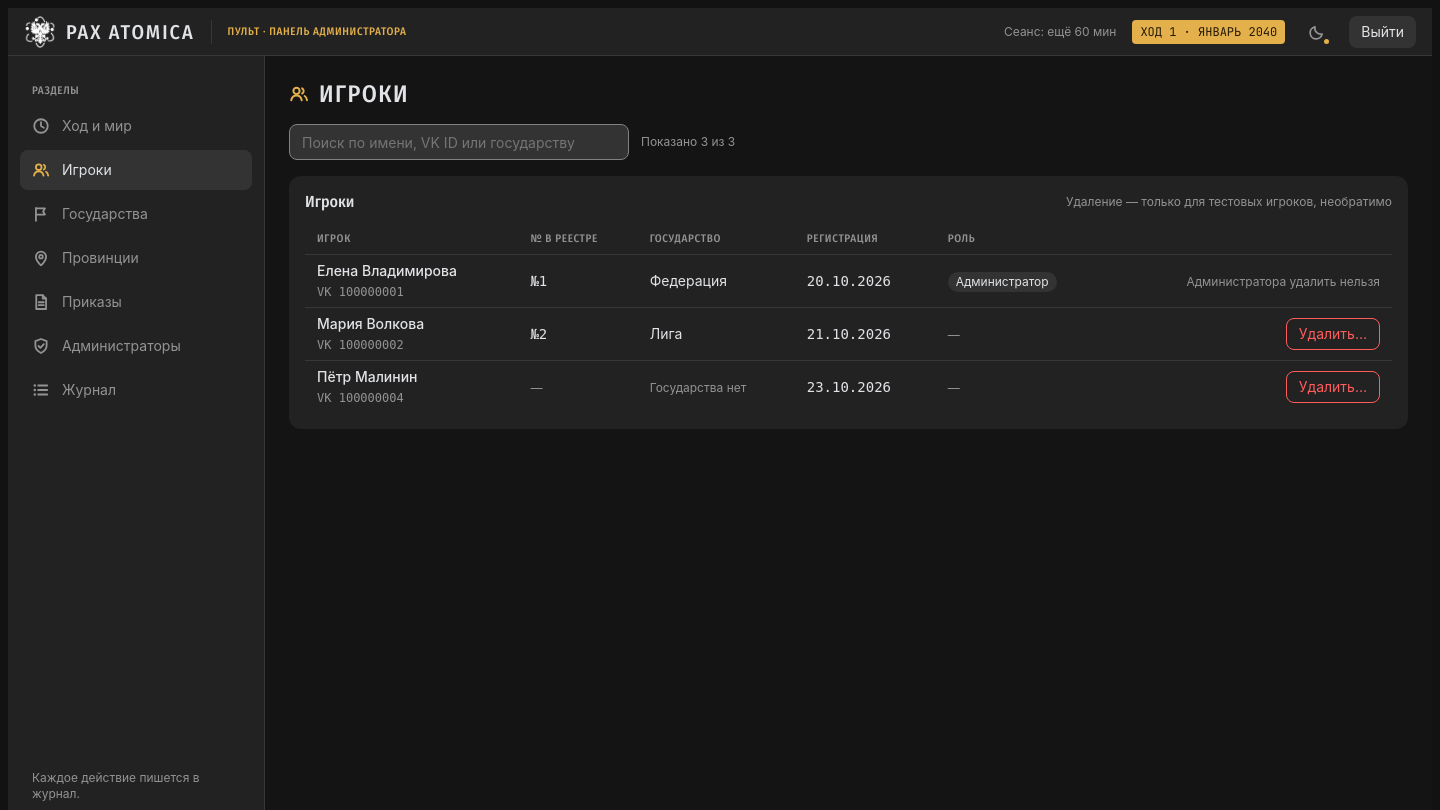
Test: the popup lists only the non-zero consequences
Expected: the table with test id "players-table" is shown, [305,224,1392,413]
Click the button with test id "delete-100000002": (1333, 334) [1286,318,1380,350]
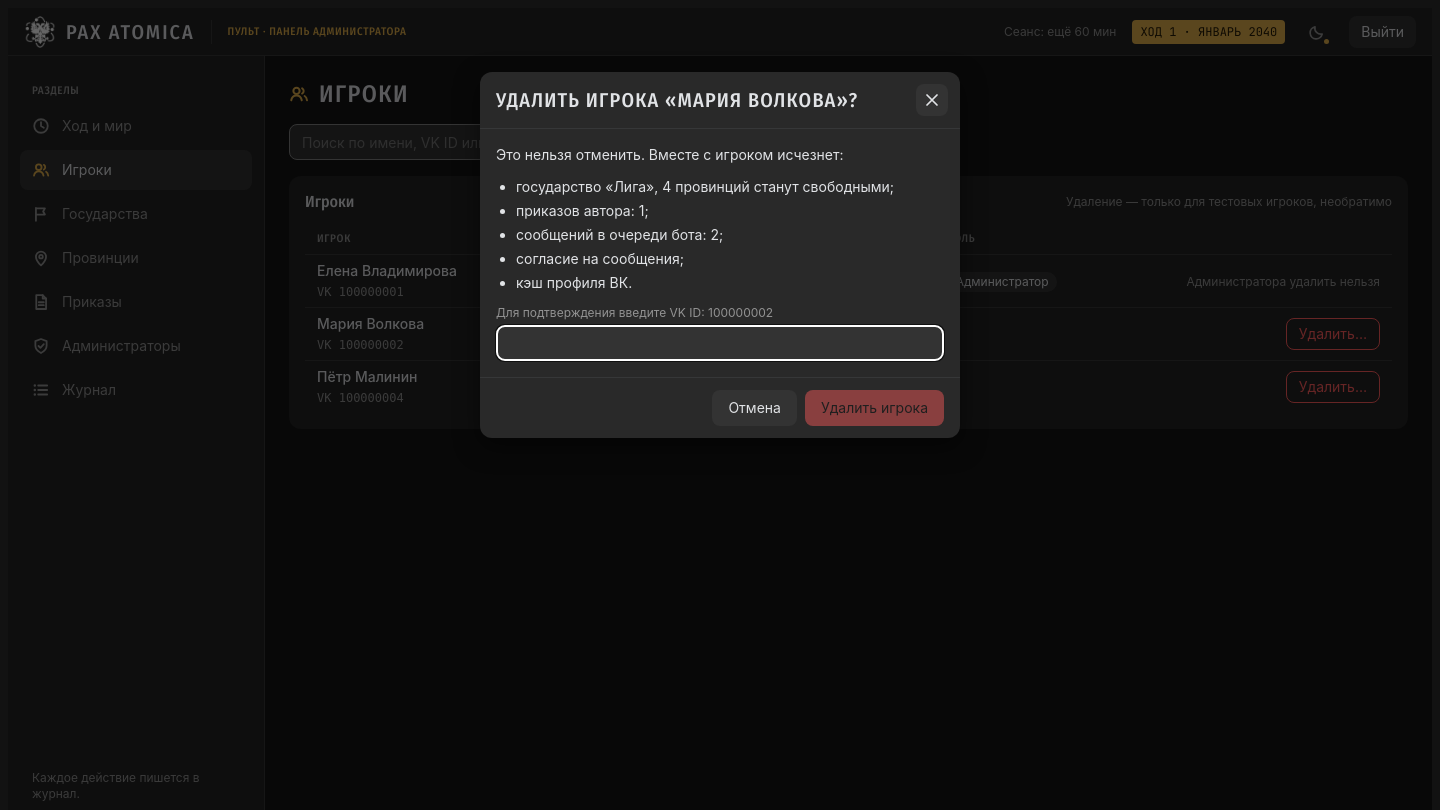
Now the dialog with test id "player-delete-popup" shows "Удалить игрока «Мария Волкова»?", box [496,88,858,112]
Now the dialog with test id "player-delete-popup" shows "Это нельзя отменить. Вместе с игроком исчезнет:", box [496,146,844,163]
Now the list with test id "player-delete-consequences" shows "государство «Лига», 4 провинций станут свободными", box [516,178,894,195]
